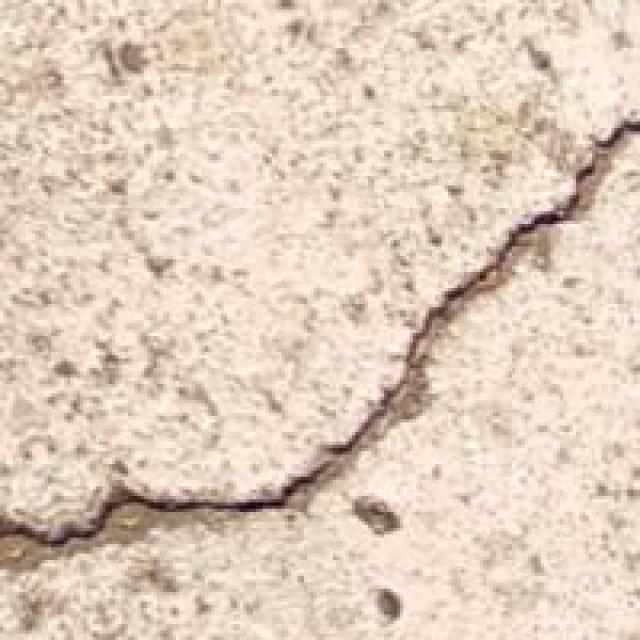Crack: (19, 102, 637, 628)
